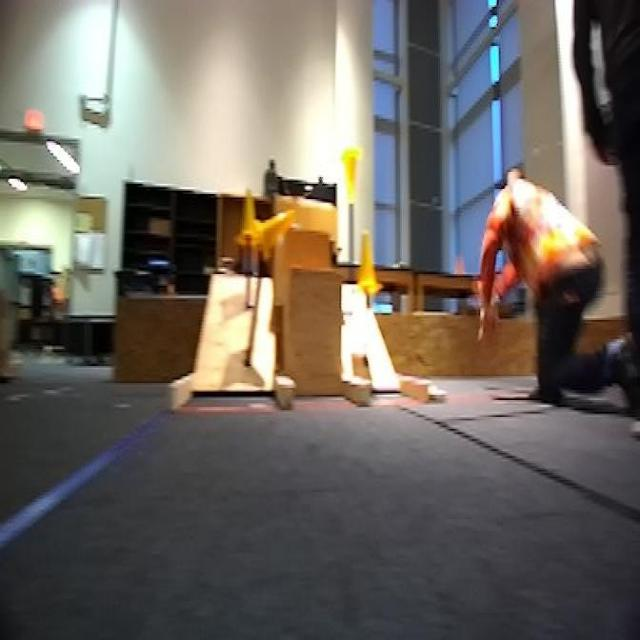frc_cone: (352, 227, 383, 300), (263, 206, 302, 259), (337, 141, 367, 206), (235, 190, 263, 248)
